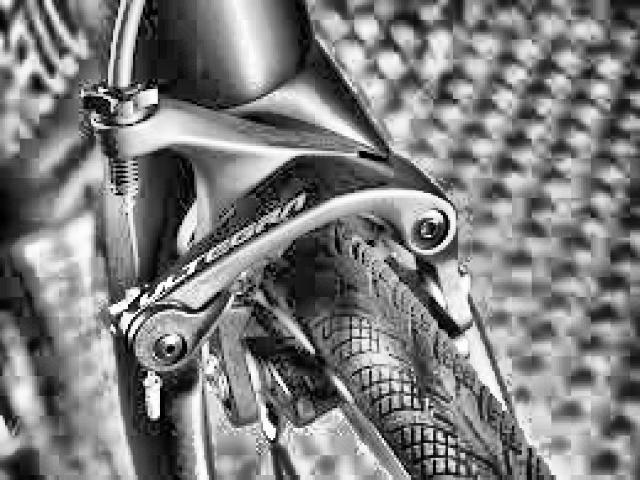rim_brake: (78, 78, 476, 435)
